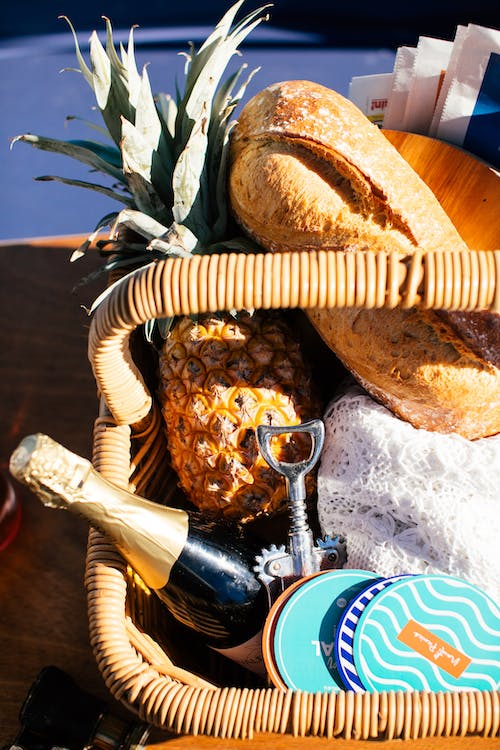alcohol: (6, 430, 299, 681)
